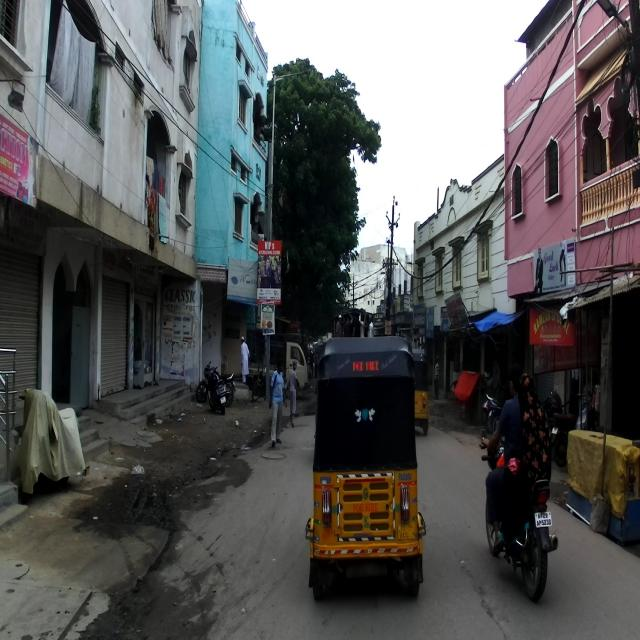autorickshaw: (302, 335, 427, 605)
motorcycle: (15, 384, 85, 499)
motorcycle_TVS: (550, 391, 601, 467)
motorcycle_bajaj: (478, 432, 558, 603)
